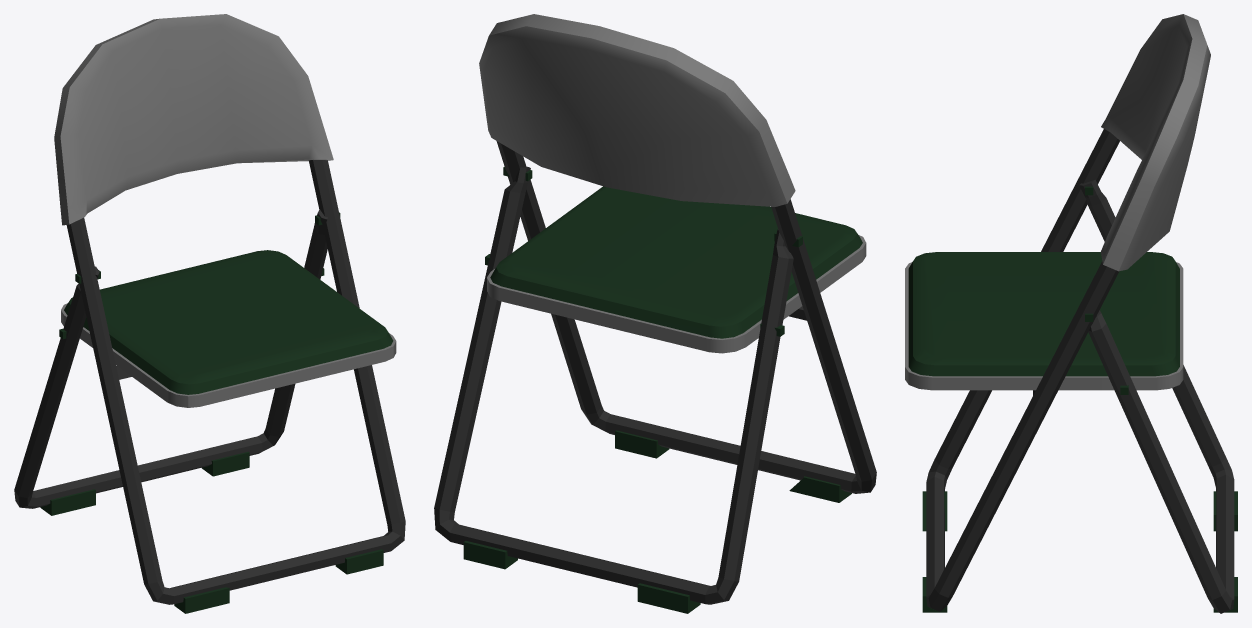
File: foldingChair.fbx
3 views of the same model, side by side, from view 1: azimuth 30°, elevation 25°; view 2: azimuth 150°, elevation 25°; view 3: azimuth 270°, elevation 25° (orthographic). The views are drawn at different scales.
Visible parts, largest first — view 1: pCube62; view 2: pCube62; view 3: pCube62.
Boxes of the visible parts, box(x1,y1,x2,y2) form: pCube62: box(14, 14, 405, 613); pCube62: box(434, 14, 876, 613); pCube62: box(905, 14, 1237, 613).
Bounding box in the file's own units: 1.87 × 3.22 × 1.87.
